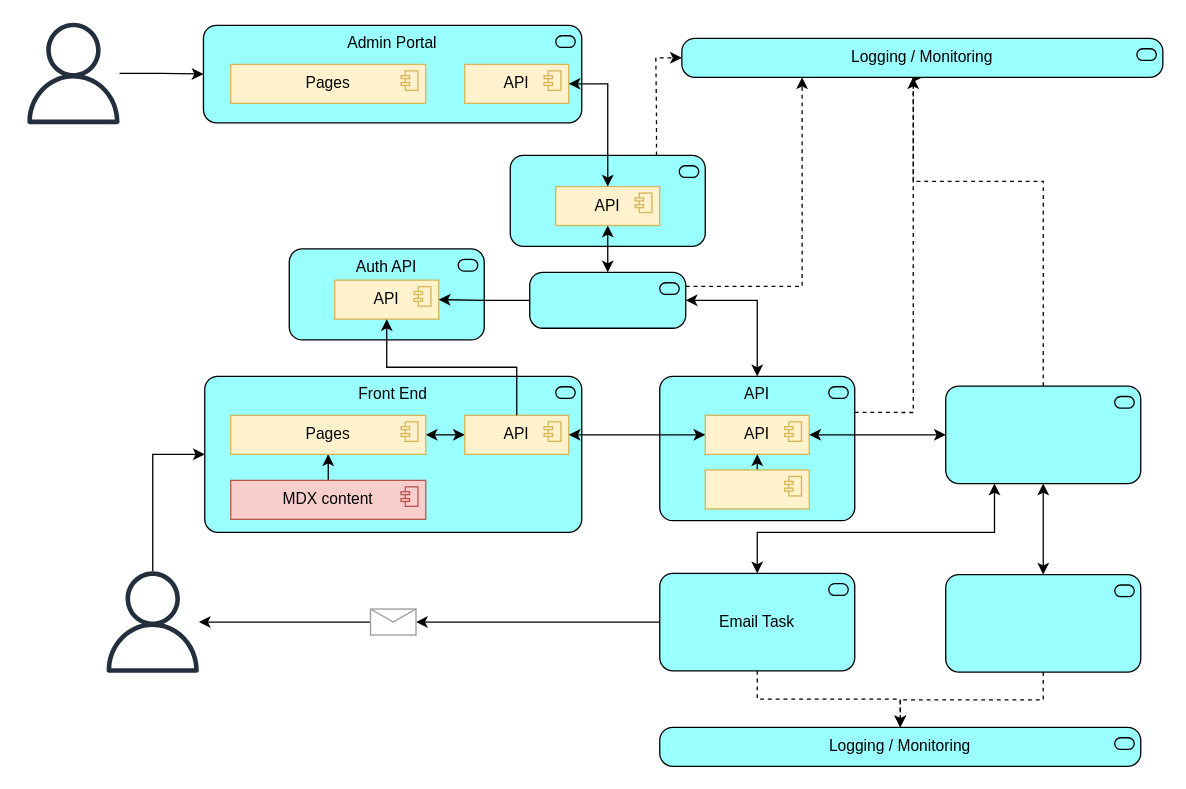
This 1186x789 diagram has some shape labels left out. Each missing label, with the box of its shape:
Account Deletion Task: (944, 573, 1141, 672)
Admin API: (509, 154, 705, 246)
Admin User: (22, 22, 124, 124)
Database: (944, 385, 1141, 484)
Email: (369, 608, 416, 635)
Identity Service: (528, 271, 686, 328)
PDF: (704, 469, 809, 509)
User: (101, 571, 203, 672)
